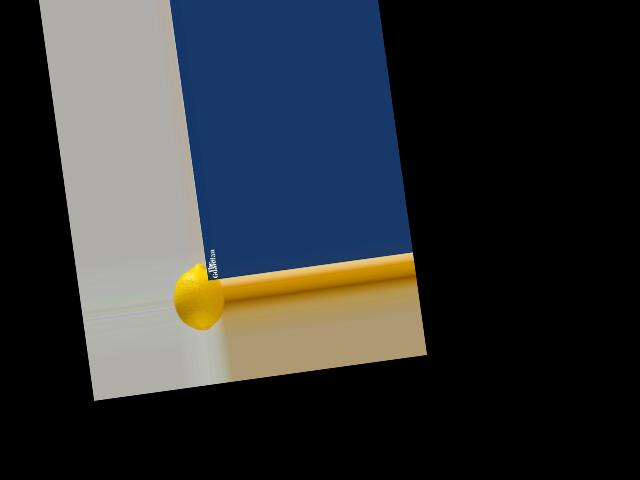lemon: (168, 256, 229, 342)
